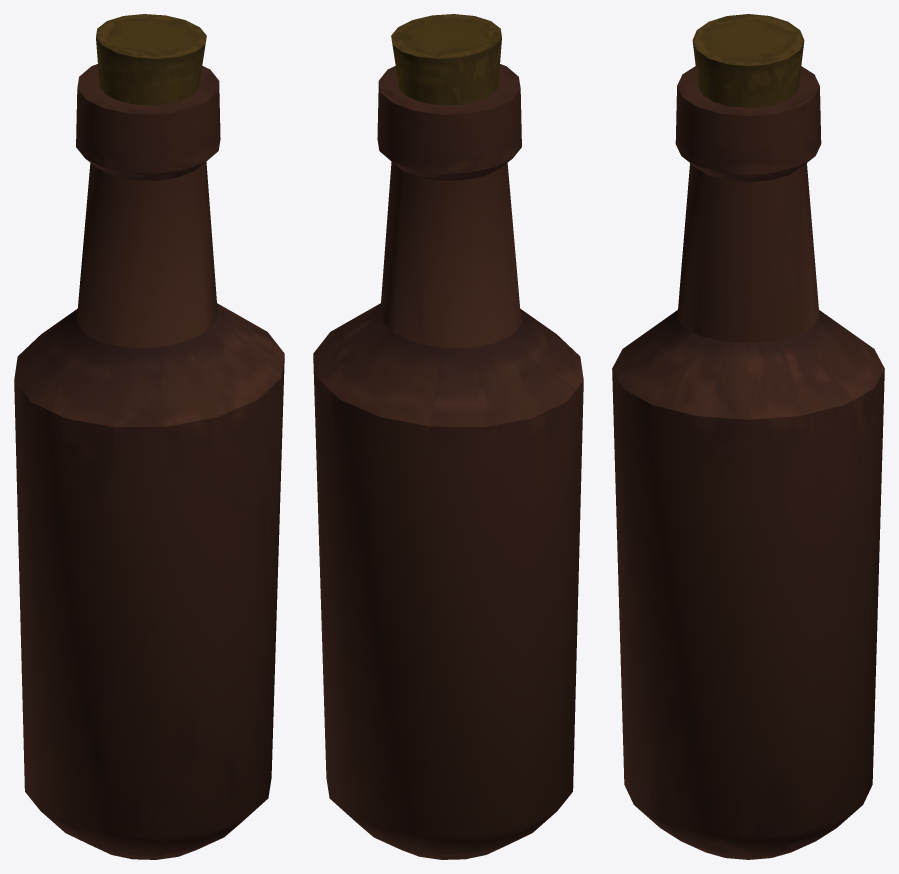
File: prop_bottle_1.glb
3 renders of one model, left to right at view 1: azimuth 30°, elevation 25°; view 2: azimuth 150°, elevation 25°; view 3: azimuth 270°, elevation 25°, orthographic.
Parts seen in each view (by area): view 1: Bottle_1; view 2: Bottle_1; view 3: Bottle_1.
Boxes of the visible parts, x1=… form: Bottle_1: x1=14, y1=14, x2=284, y2=859; Bottle_1: x1=313, y1=14, x2=583, y2=859; Bottle_1: x1=612, y1=14, x2=884, y2=859.
Size of the model in its own units: 0.1127 by 0.3647 by 0.1129.
1 material, 1 textured.
